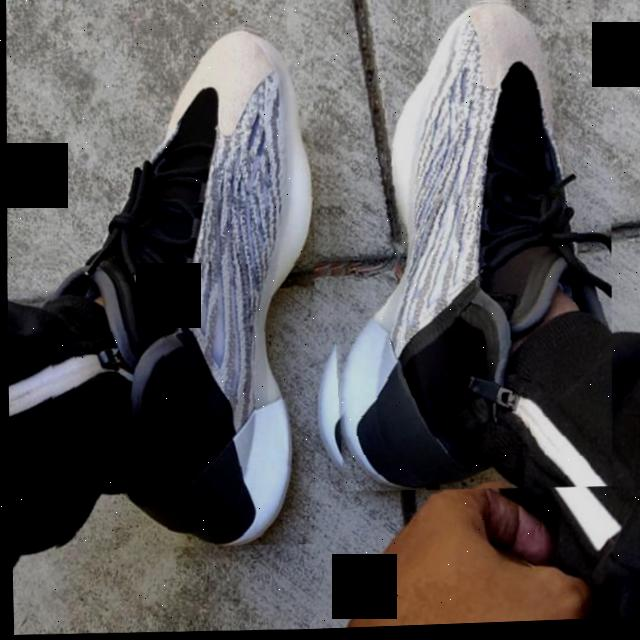shoe: (307, 0, 618, 499), (35, 19, 322, 554)
